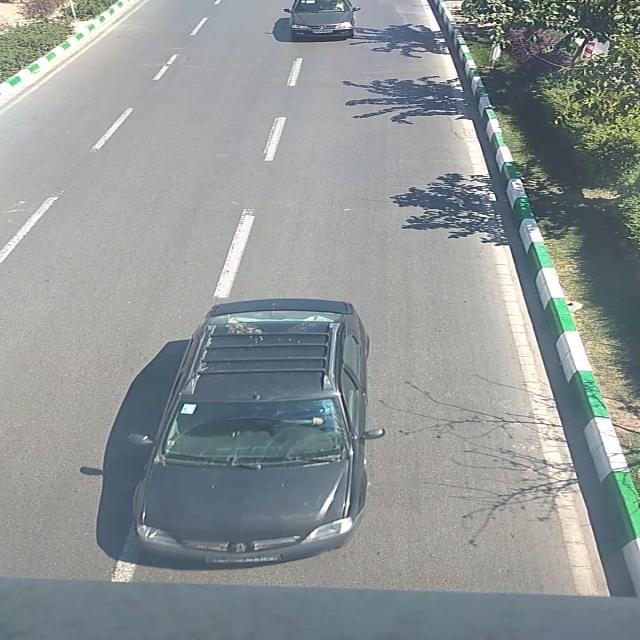car: (126, 297, 388, 567), (282, 0, 362, 40)
